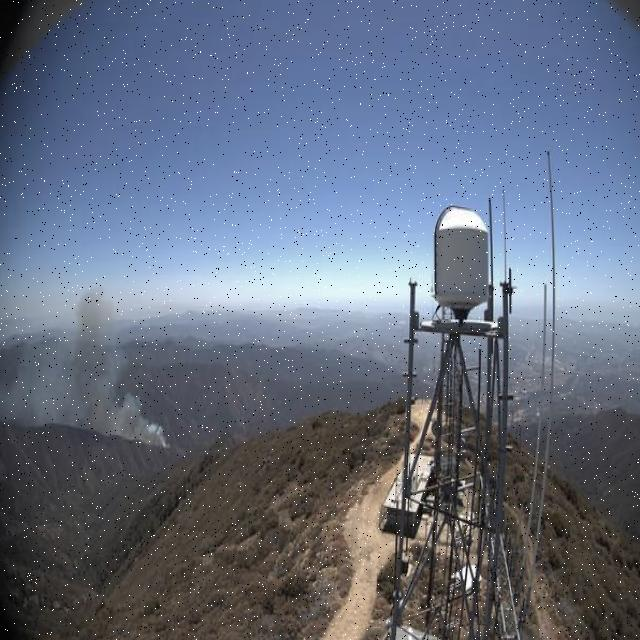smoke: (0, 277, 165, 446)
